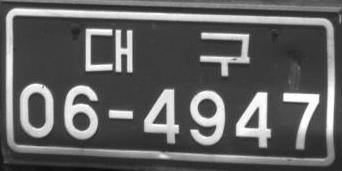0: (19, 82, 53, 139)
4: (235, 91, 271, 148), (143, 88, 179, 143)
6: (63, 84, 99, 140)
7: (282, 91, 319, 150)
9: (188, 89, 225, 146)
대구_D: (84, 27, 249, 77)
